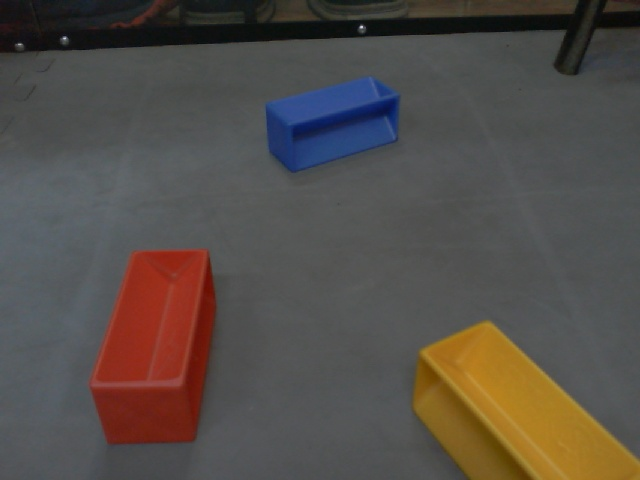BlueSample: (264, 75, 401, 174)
RedSample: (87, 247, 218, 445)
YellowSample: (408, 319, 639, 480)
